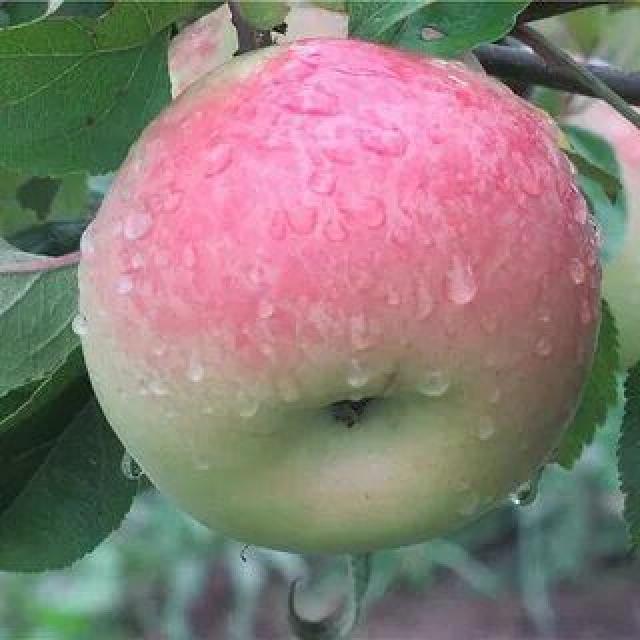Fresh Apple: (70, 42, 608, 548)
